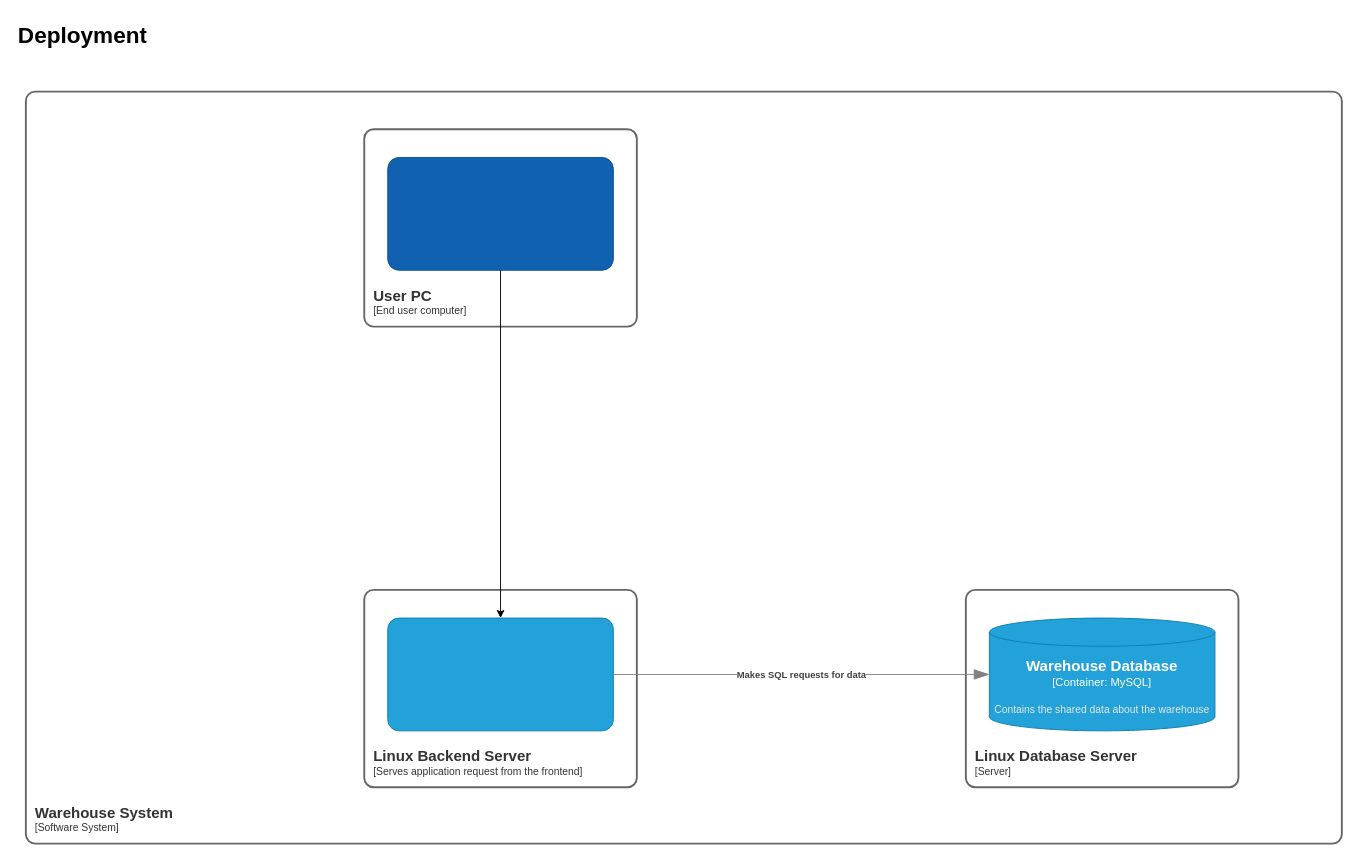
This 1358x860 diagram has some shape labels left out. Each missing label, with the centre of its shape:
Application Server [Container: Node, JavaScript] Serves application requests: the point at 500,674
Browser [Software System] Internet Browser: the point at 500,213
